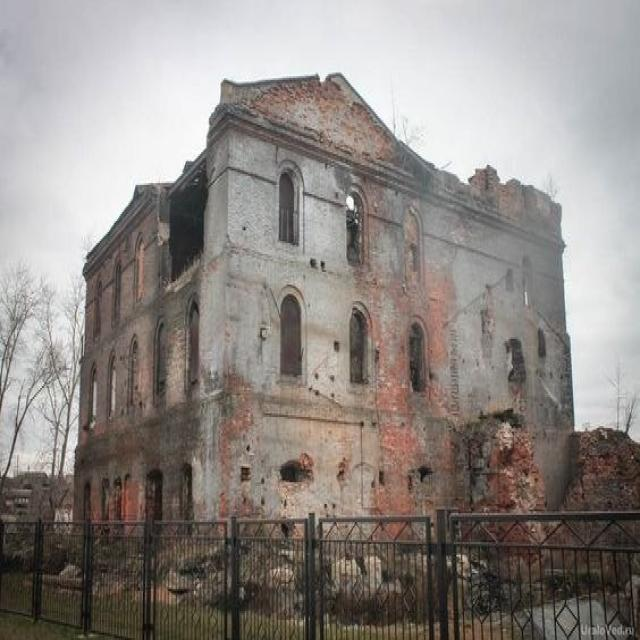broken_window: (278, 290, 303, 379), (347, 303, 371, 384), (277, 165, 298, 245), (344, 188, 364, 264), (407, 319, 427, 394)
building: (70, 69, 576, 589)
